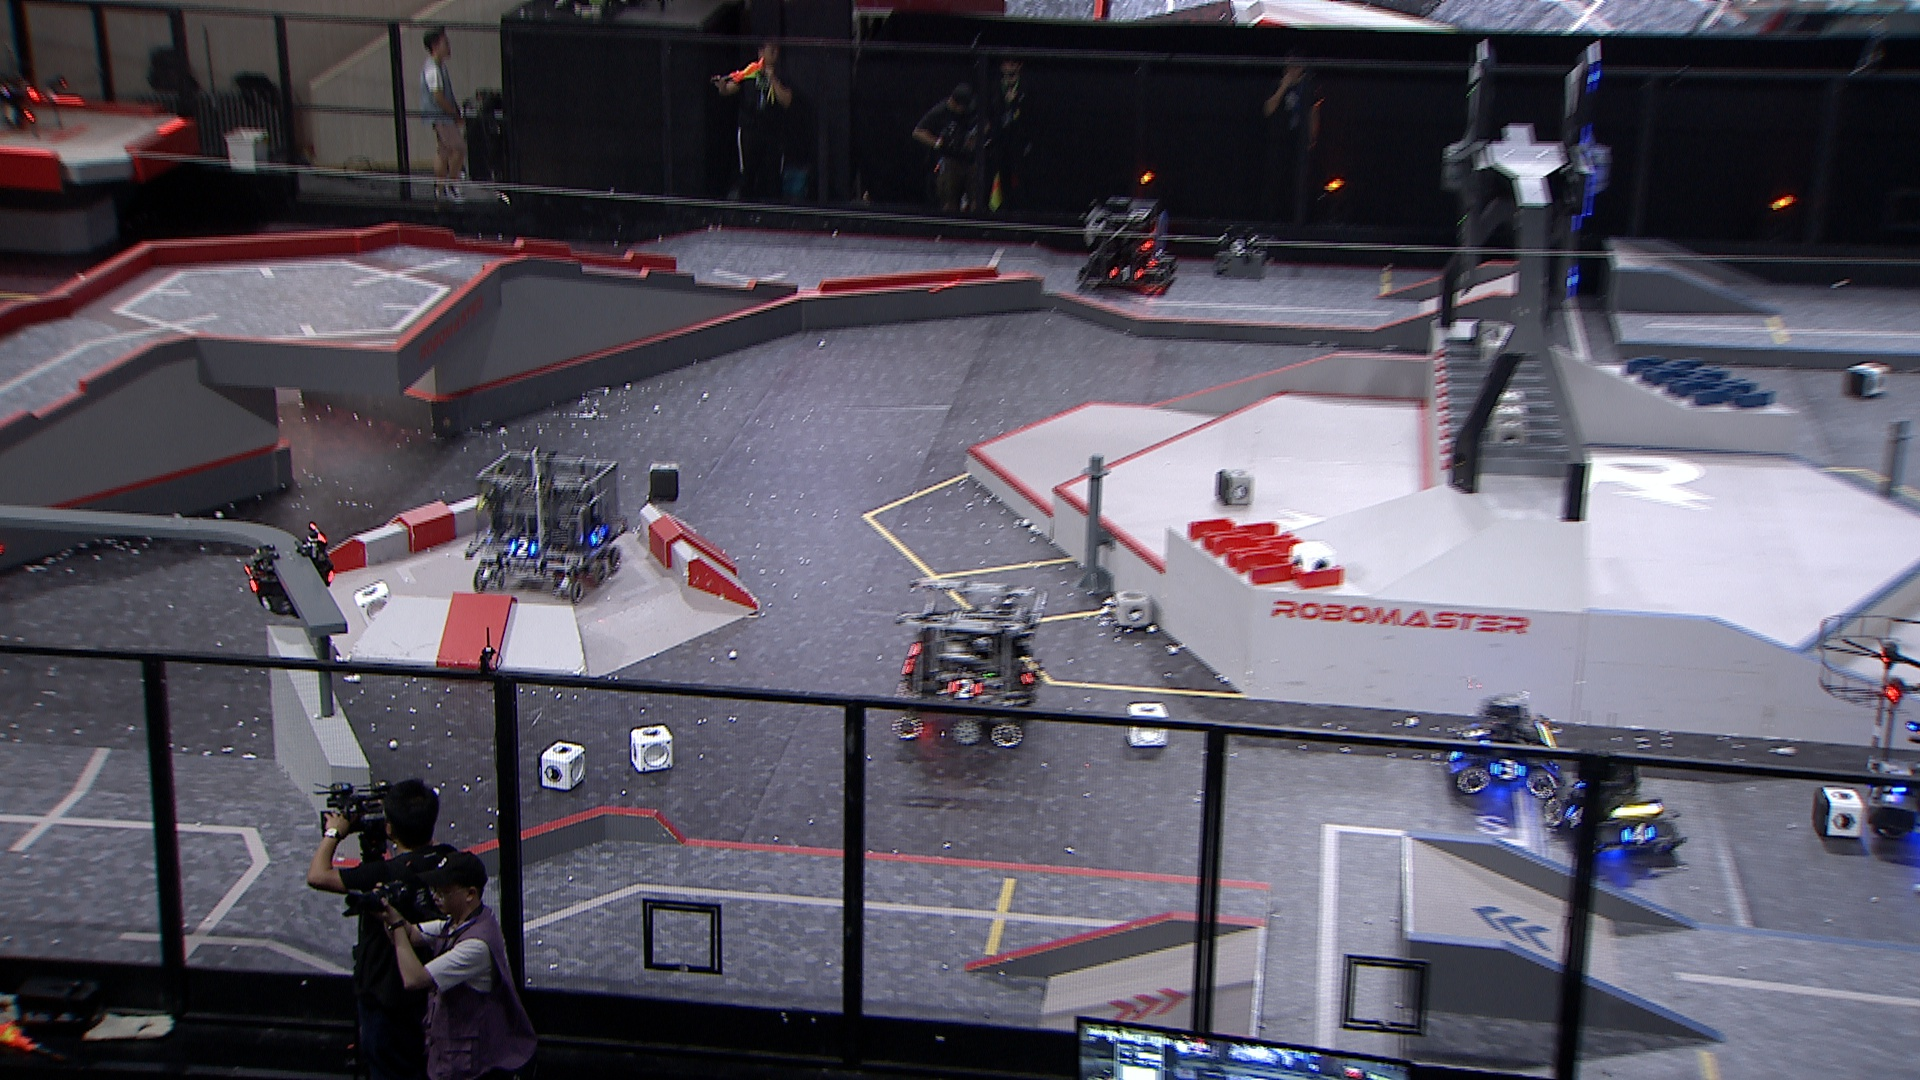armor: (1622, 822, 1658, 851), (945, 675, 984, 702), (1490, 756, 1528, 782), (508, 537, 539, 560), (1466, 721, 1495, 746), (1110, 264, 1147, 282), (243, 564, 262, 593), (1564, 804, 1586, 829), (588, 526, 608, 549)
car: (893, 579, 1051, 749), (462, 447, 622, 603), (1539, 756, 1688, 866), (1448, 688, 1564, 802), (1076, 194, 1182, 295), (1863, 713, 1920, 858)
watcher: (243, 524, 335, 624)
